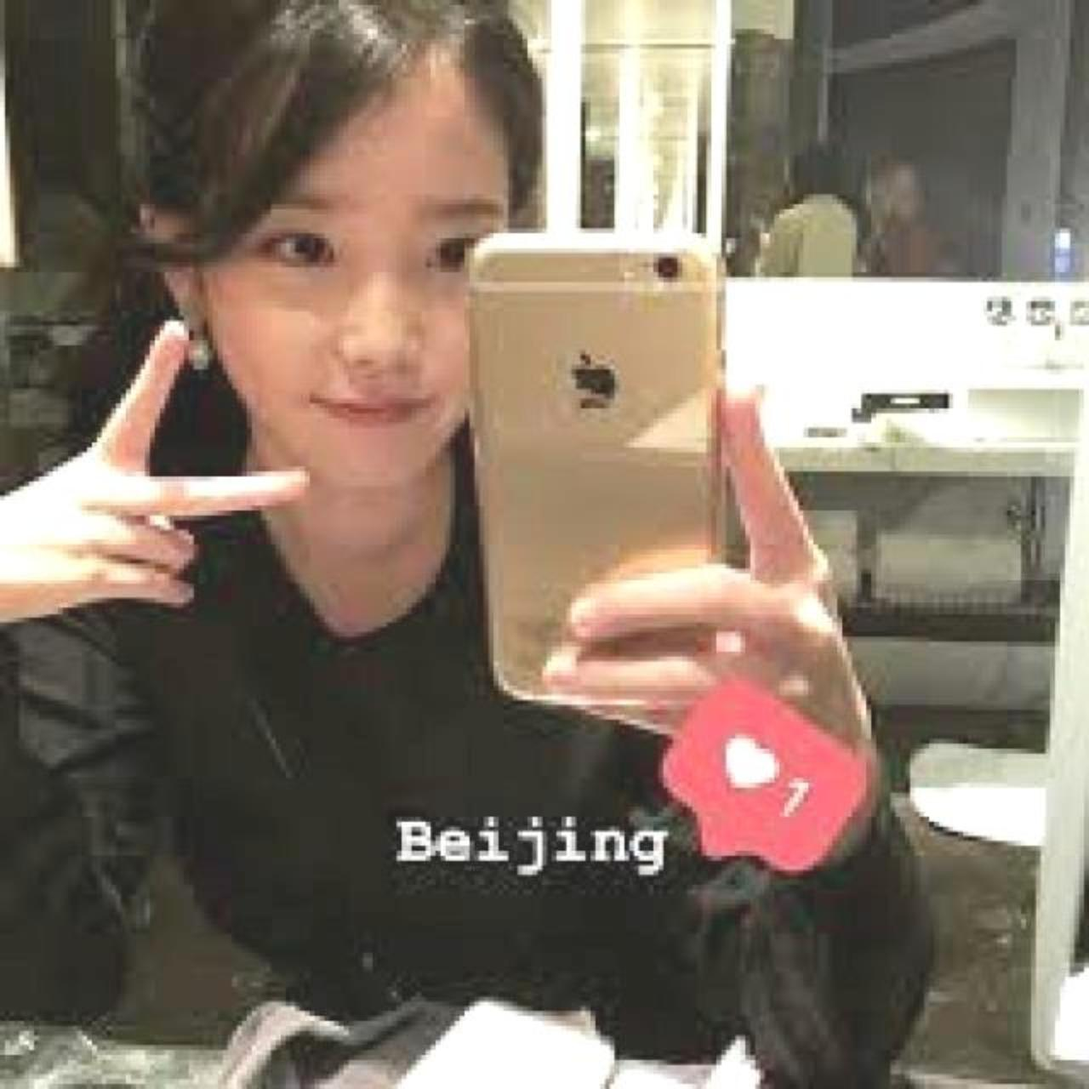phone: (465, 225, 732, 711)
